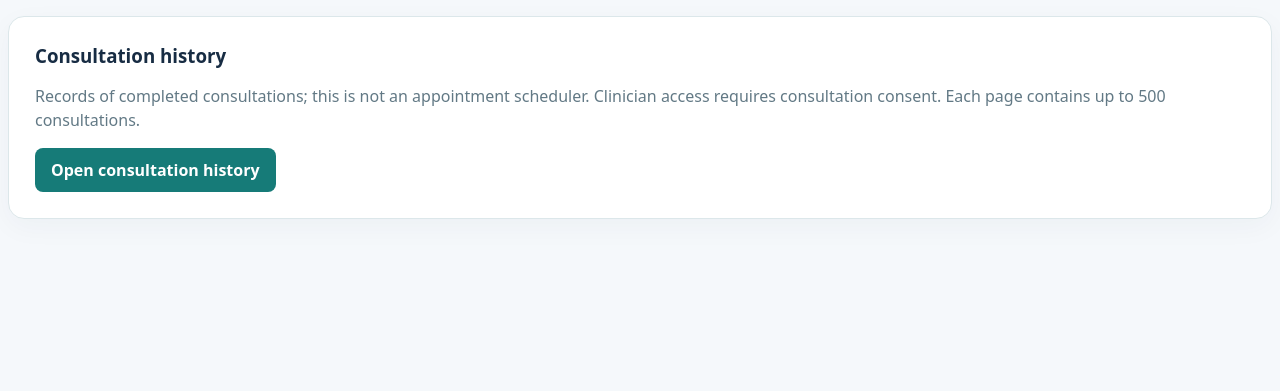
Scenario: opens older consultation pages and refreshes to the newest
The width and height of the screenshot is (1280, 391).
Click the button "Open consultation history" at coordinates (155, 170), box [35, 148, 276, 192]
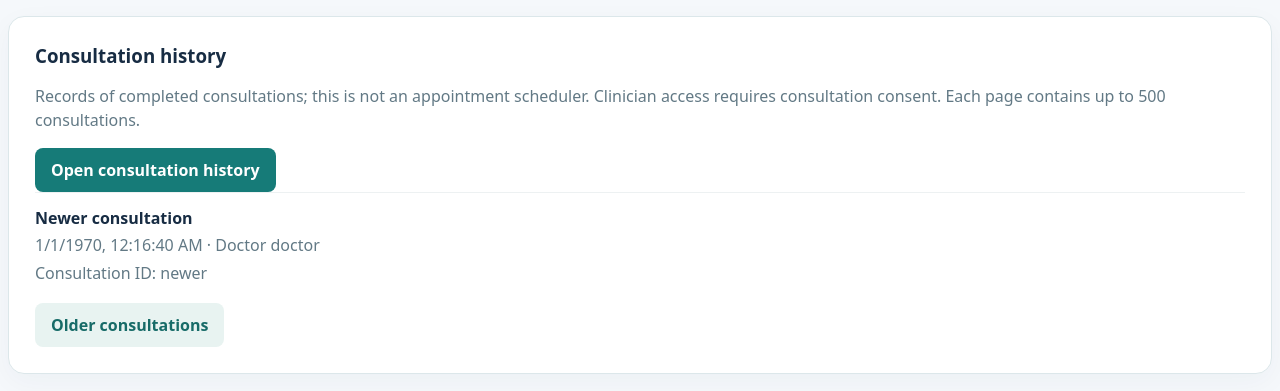
Expected: the text "Newer consultation" is shown, [35, 207, 193, 229]
Click the button "Older consultations" at coordinates (130, 325), box [35, 303, 224, 347]
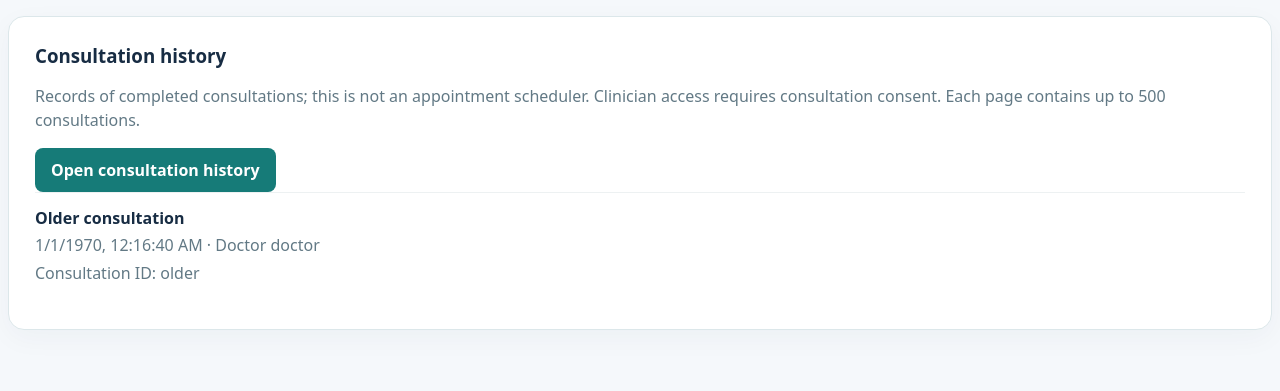
Expected: the text "Older consultation" is shown, [35, 207, 184, 229]
Click the button "Open consultation history" at coordinates (155, 170), box [35, 148, 276, 192]
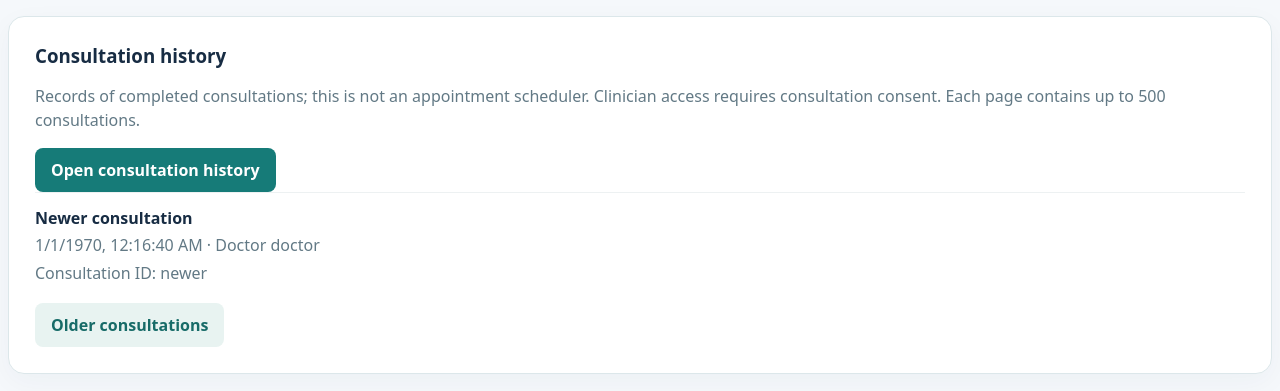
Expected: the text "Newer consultation" is shown, [35, 207, 193, 229]
